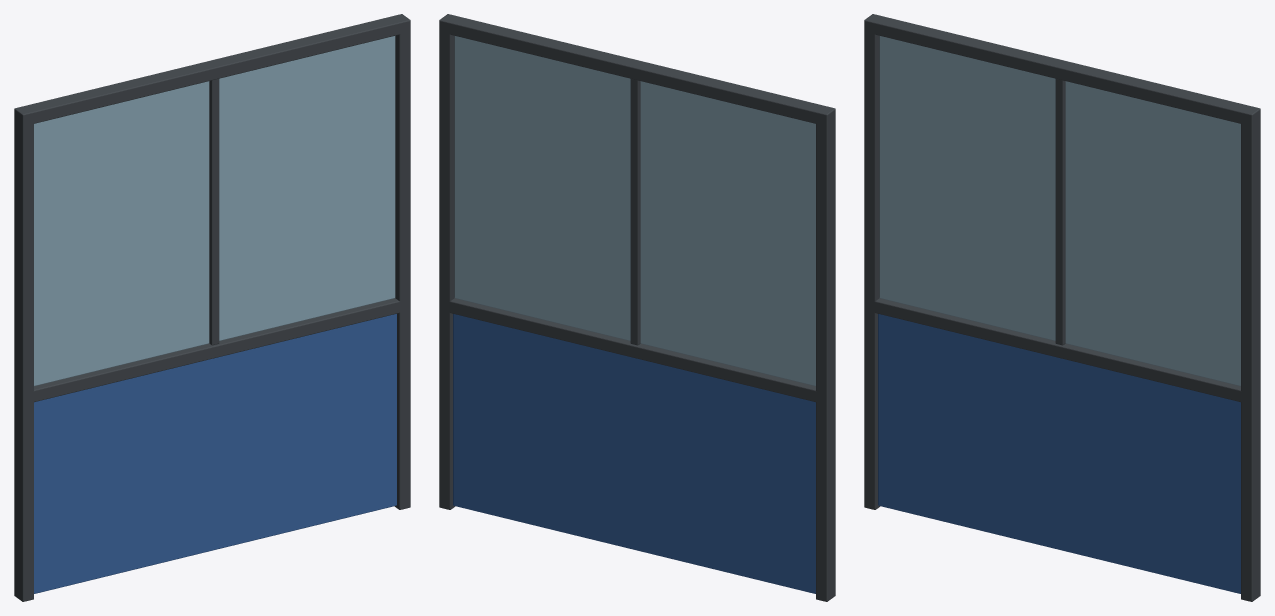
File: Env_Partition.fbx
The picture shows the model from 3 angles, left to right: view 1: azimuth 30°, elevation 25°; view 2: azimuth 150°, elevation 25°; view 3: azimuth 330°, elevation 25°; orthographic projection.
Visible parts, largest first — view 1: Env_Part_Glass, Env_Part_Base, Env_Part_FrameL, Env_Part_FrameTop, Env_Part_FrameR, Env_Part_Rail, Env_Part_Mullion; view 2: Env_Part_Glass, Env_Part_Base, Env_Part_FrameL, Env_Part_FrameTop, Env_Part_FrameR, Env_Part_Rail, Env_Part_Mullion; view 3: Env_Part_Glass, Env_Part_Base, Env_Part_FrameR, Env_Part_FrameTop, Env_Part_FrameL, Env_Part_Rail, Env_Part_Mullion.
Part boxes in pixels (x1,y1,x2,y2): Env_Part_Glass: [34, 36, 395, 386]; Env_Part_Base: [34, 314, 396, 593]; Env_Part_FrameL: [14, 106, 33, 601]; Env_Part_FrameTop: [15, 16, 410, 125]; Env_Part_FrameR: [392, 14, 410, 509]; Env_Part_Rail: [14, 298, 410, 404]; Env_Part_Mullion: [209, 79, 219, 345]; Env_Part_Glass: [454, 36, 815, 386]; Env_Part_Base: [453, 314, 815, 593]; Env_Part_FrameL: [816, 106, 835, 601]; Env_Part_FrameTop: [439, 16, 834, 125]; Env_Part_FrameR: [439, 14, 457, 509]; Env_Part_Rail: [439, 298, 835, 403]; Env_Part_Mullion: [630, 79, 640, 345]; Env_Part_Glass: [879, 36, 1240, 386]; Env_Part_Base: [878, 314, 1240, 593]; Env_Part_FrameR: [1241, 106, 1260, 601]; Env_Part_FrameTop: [864, 16, 1260, 125]; Env_Part_FrameL: [864, 14, 882, 509]; Env_Part_Rail: [864, 298, 1260, 403]; Env_Part_Mullion: [1055, 79, 1065, 345].
Bounding box in the file's own units: 2 × 2.4 × 0.08.
